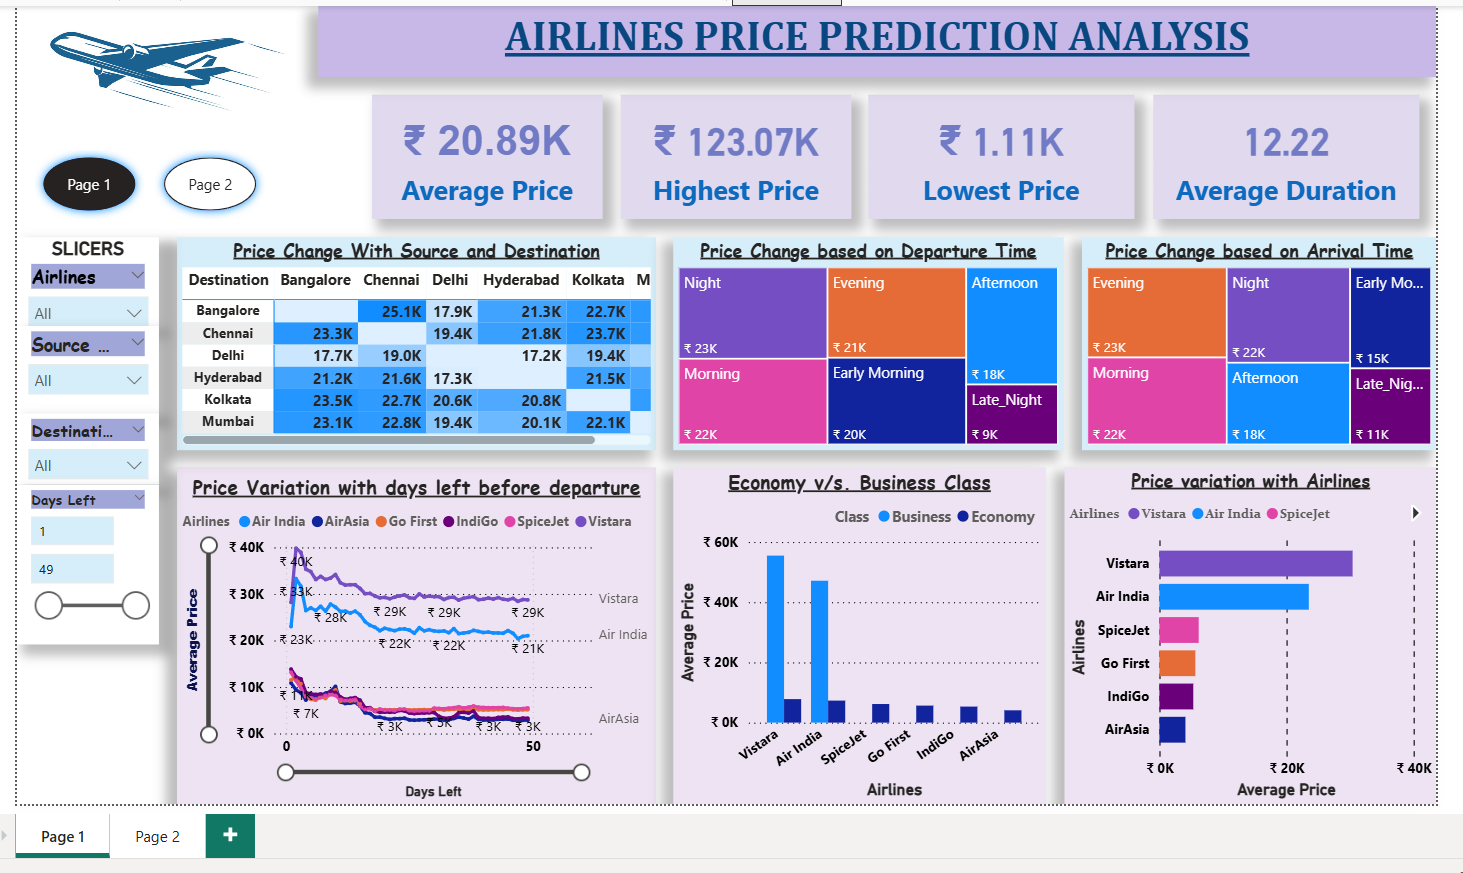

This screenshot's page, from the dashboard's own definition file:
{"tool":"powerbi","page":{"name":"Page 1","canvas":[1280,720],"ordinal":0},"visuals":[{"type":"card","fields":{"Values":["Airlines.Average Price"]},"box":[320,80,208,112],"z":0},{"type":"card","fields":{"Values":["Airlines.Highest Price"]},"box":[544,80,208,112],"z":1000},{"type":"card","fields":{"Values":["Airlines.Lowest Price"]},"box":[768,80,240,112],"z":2000},{"type":"card","fields":{"Values":["Airlines.Average Duration"]},"box":[1024,80,240,112],"z":3000},{"type":"lineChart","title":"Price Variation with days left before departure","fields":{"Category":["Airlines.days_left"],"Y":["Airlines.Average Price"],"Series":["Airlines.airline"]},"box":[144,416,432,304],"z":4000},{"type":"pivotTable","title":"Price Change With Source and Destination","fields":{"Rows":["Airlines.destination_city"],"Columns":["Airlines.source_city"],"Values":["Airlines.Average Price"]},"box":[144,208,432,192],"z":5000},{"type":"treemap","title":"Price Change based on Arrival Time","fields":{"Group":["Airlines.arrival_time"],"Values":["Airlines.Average Price"]},"box":[960,208,320,192],"z":6000},{"type":"treemap","title":"Price Change based on Departure Time","fields":{"Group":["Airlines.departure_time"],"Values":["Airlines.Average Price"]},"box":[592,208,352,192],"z":7000},{"type":"barChart","title":"Price variation with Airlines","fields":{"Category":["Airlines.airline"],"Y":["Airlines.Average Price"],"Series":["Airlines.airline"]},"box":[944,416,336,304],"z":8000},{"type":"clusteredColumnChart","title":"Economy v/s. Business Class","fields":{"Category":["Airlines.airline"],"Y":["Airlines.Average Price"],"Series":["Airlines.class"]},"box":[592,416,336,304],"z":9000},{"type":"textbox","box":[272,0,1008,64],"z":10000},{"type":"slicer","title":"SLICERS","fields":{"Values":["Airlines.airline","Airlines.days_left"]},"box":[0,208,128,80],"z":11000},{"type":"slicer","fields":{"Values":["Airlines.source_city"]},"box":[0,288,128,80],"z":12000},{"type":"slicer","fields":{"Values":["Airlines.destination_city"]},"box":[0,368,128,64],"z":13000},{"type":"slicer","fields":{"Values":["Airlines.days_left"]},"box":[0,432,128,144],"z":14000},{"type":"image","box":[0,0,256,112],"z":15000},{"type":"pageNavigator","title":"Char","box":[16,128,208,64],"z":16000}]}

Visuals, with their boxes on the page's 1280x720 design canvas (x1, y1, x2, y2). These are canvas units, not pixel positions in the 1463x873 screenshot, which may show the page scaled, cropped or inside an application window:
card - Airlines.Average Price: crop(320, 80, 528, 192)
card - Airlines.Highest Price: crop(544, 80, 752, 192)
card - Airlines.Lowest Price: crop(768, 80, 1008, 192)
card - Airlines.Average Duration: crop(1024, 80, 1264, 192)
"Price Variation with days left before departure" lineChart: crop(144, 416, 576, 720)
"Price Change With Source and Destination" pivotTable: crop(144, 208, 576, 400)
"Price Change based on Arrival Time" treemap: crop(960, 208, 1280, 400)
"Price Change based on Departure Time" treemap: crop(592, 208, 944, 400)
"Price variation with Airlines" barChart: crop(944, 416, 1280, 720)
"Economy v/s. Business Class" clusteredColumnChart: crop(592, 416, 928, 720)
textbox: crop(272, 0, 1280, 64)
"SLICERS" slicer: crop(0, 208, 128, 288)
slicer - Airlines.source_city: crop(0, 288, 128, 368)
slicer - Airlines.destination_city: crop(0, 368, 128, 432)
slicer - Airlines.days_left: crop(0, 432, 128, 576)
image: crop(0, 0, 256, 112)
"Char" pageNavigator: crop(16, 128, 224, 192)
